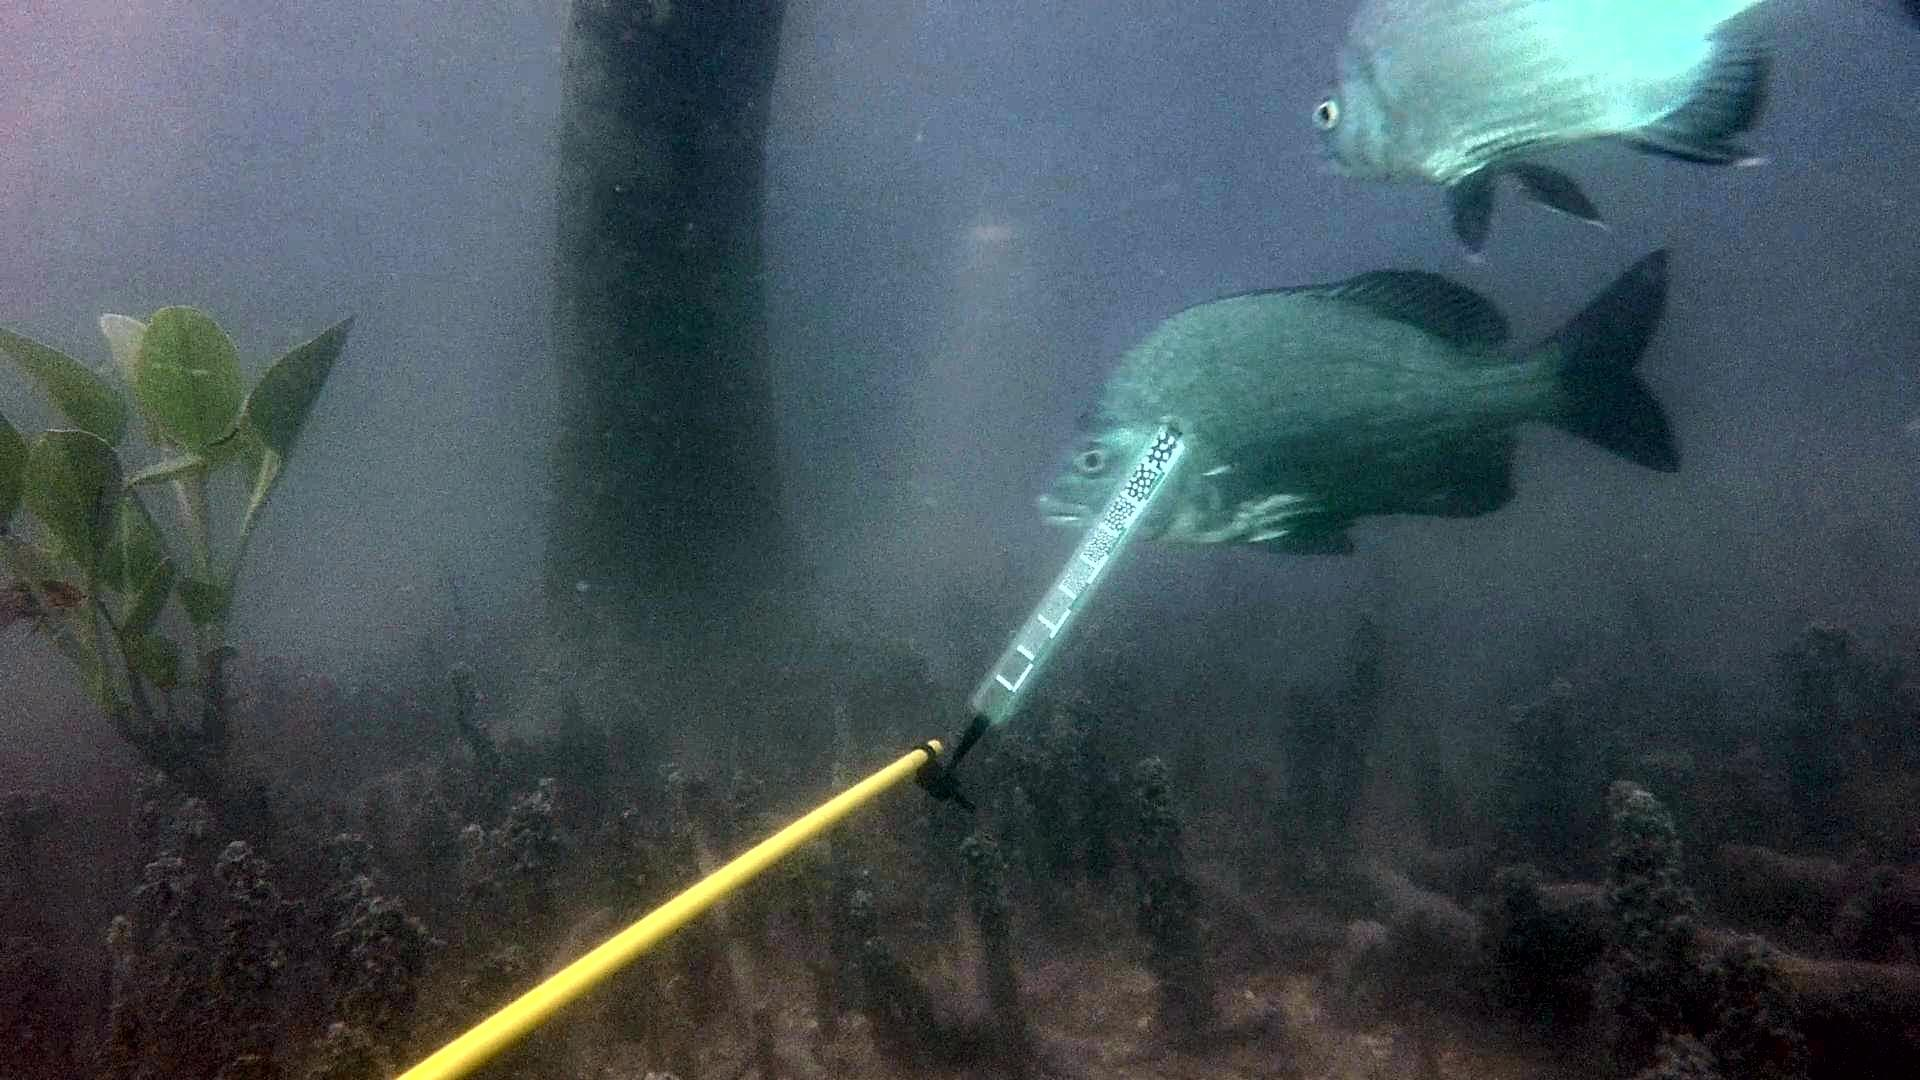acanthopagrus palmaris: (1023, 239, 1695, 571), (1294, 0, 1920, 273)
